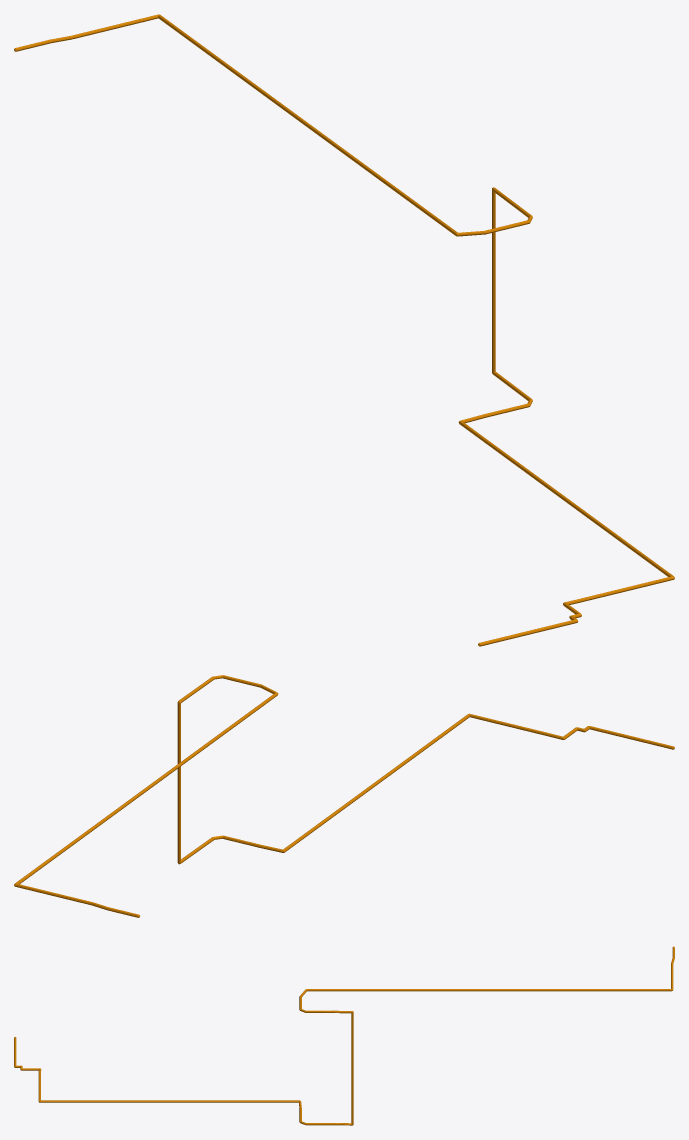
3 renders of one model, top to bottom at view 1: azimuth 30°, elevation 25°; view 2: azimuth 150°, elevation 25°; view 3: azimuth 270°, elevation 25°, orthographic. The views are drawn at different scales.
Bounding box in the file's own units: 1670 × 1020 × 5336.
